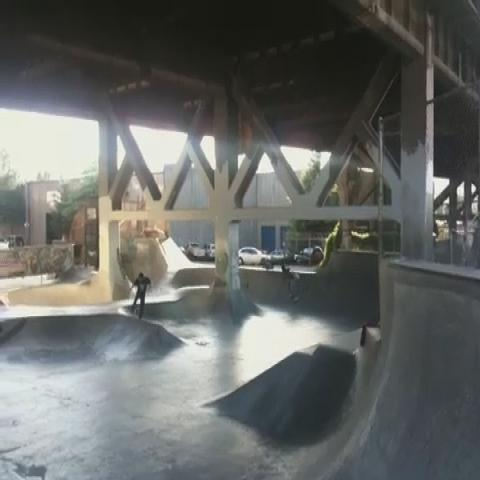car: (236, 244, 272, 266), (296, 246, 324, 264), (268, 250, 294, 264), (184, 243, 205, 259), (7, 235, 25, 249), (203, 244, 215, 260)
